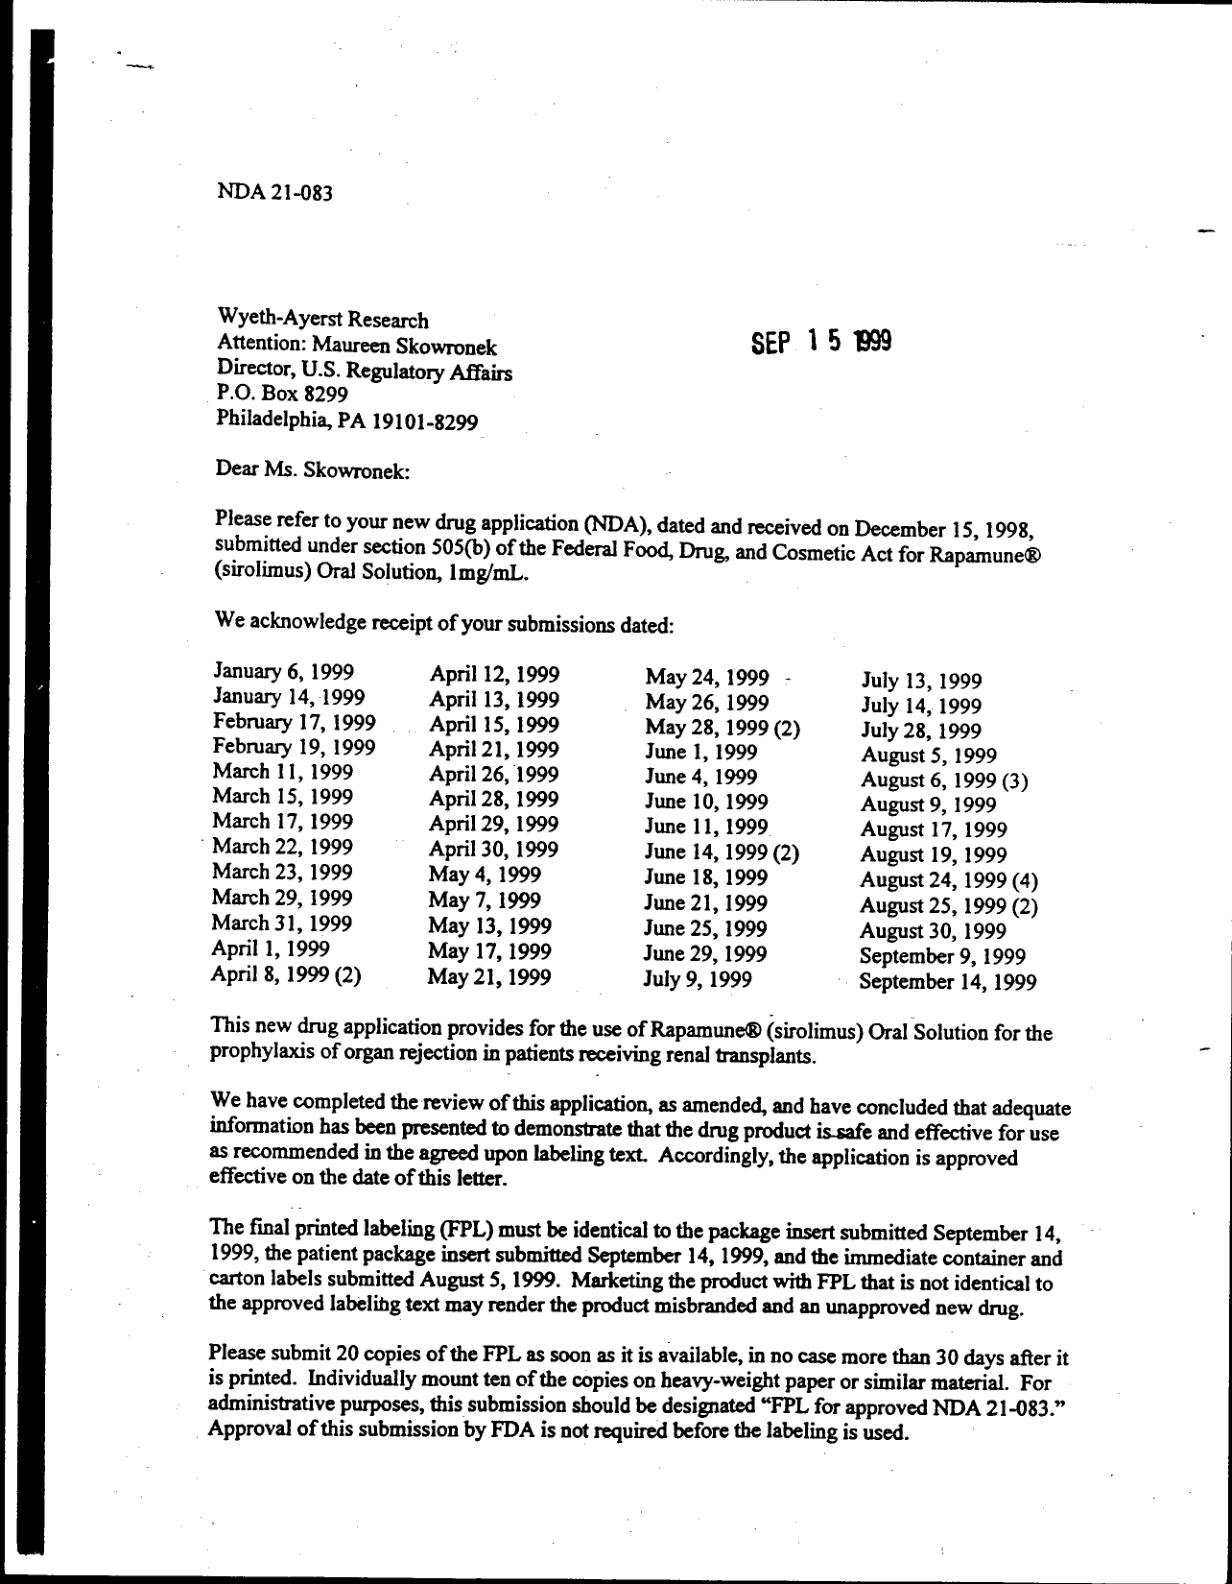nolines: (206, 654, 1042, 995)
